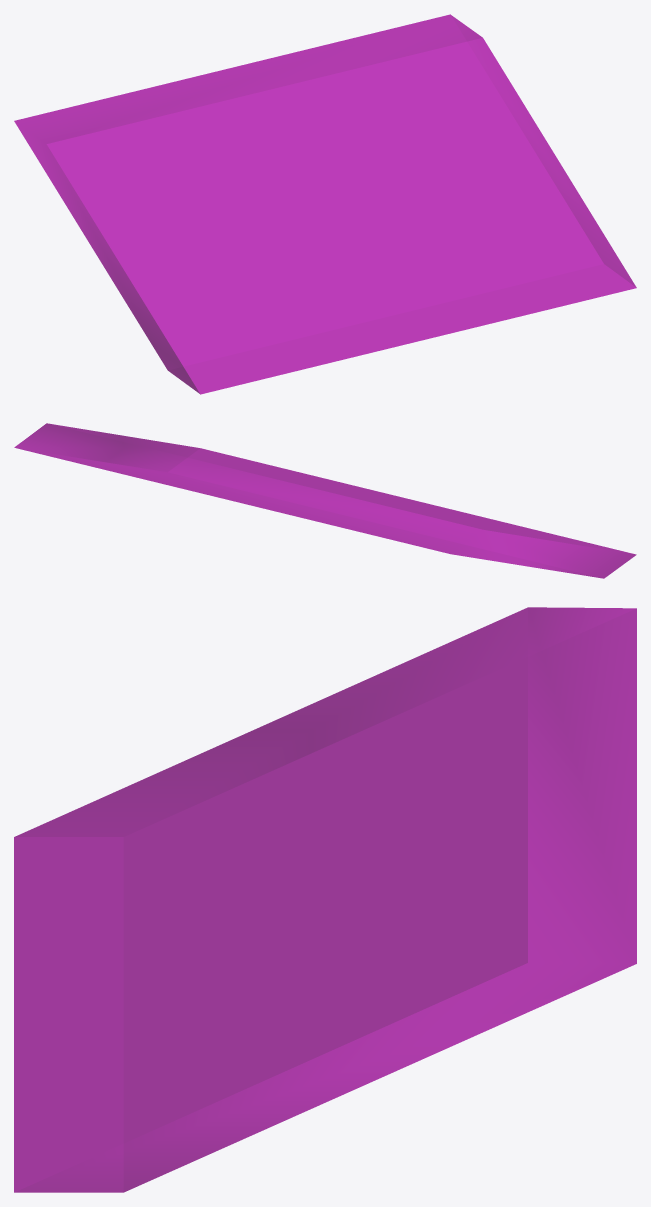
Rendered from SM_Bld_Stairs_01_Collision.fbx.
The picture shows the model from 3 angles, top to bottom: view 1: azimuth 30°, elevation 25°; view 2: azimuth 150°, elevation 25°; view 3: azimuth 270°, elevation 25°; orthographic projection. The views are drawn at different scales.
Visible parts, largest first — view 1: SM_Bld_Stairs_01_Collision; view 2: SM_Bld_Stairs_01_Collision; view 3: SM_Bld_Stairs_01_Collision.
Boxes of the visible parts, box(x1,y1,x2,y2) form: SM_Bld_Stairs_01_Collision: box(14, 14, 636, 394); SM_Bld_Stairs_01_Collision: box(14, 423, 636, 578); SM_Bld_Stairs_01_Collision: box(14, 607, 636, 1192).
Bounding box in the file's own units: 251 × 75.73 × 186.
